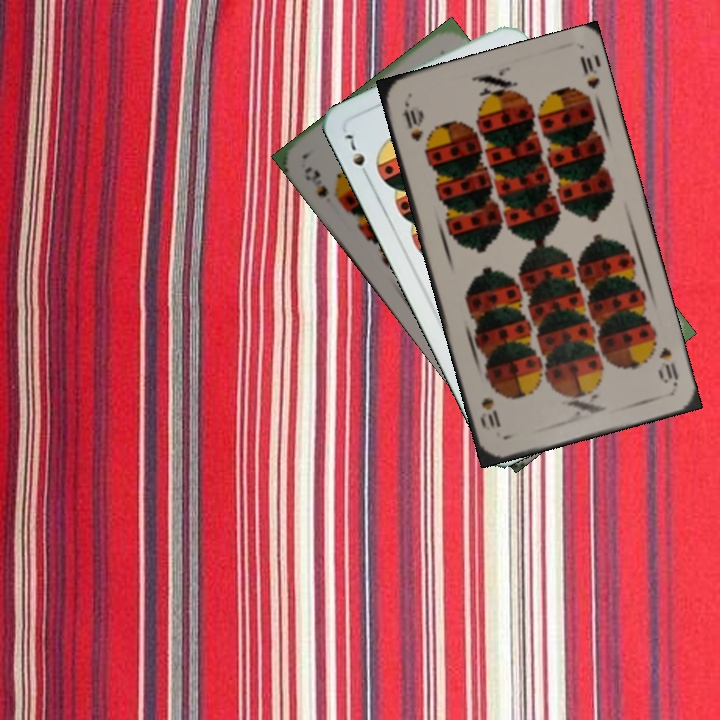S10: (398, 98, 426, 144), (655, 343, 681, 388)
S7: (340, 129, 373, 183)
S9: (300, 162, 345, 208)
